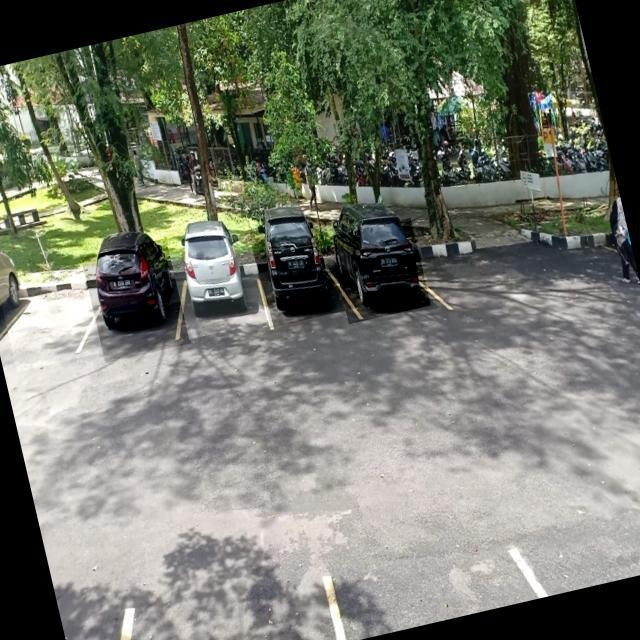empty: (0, 270, 103, 372)
occupied: (81, 238, 191, 363), (167, 226, 270, 339), (329, 217, 431, 324), (250, 222, 346, 328)
